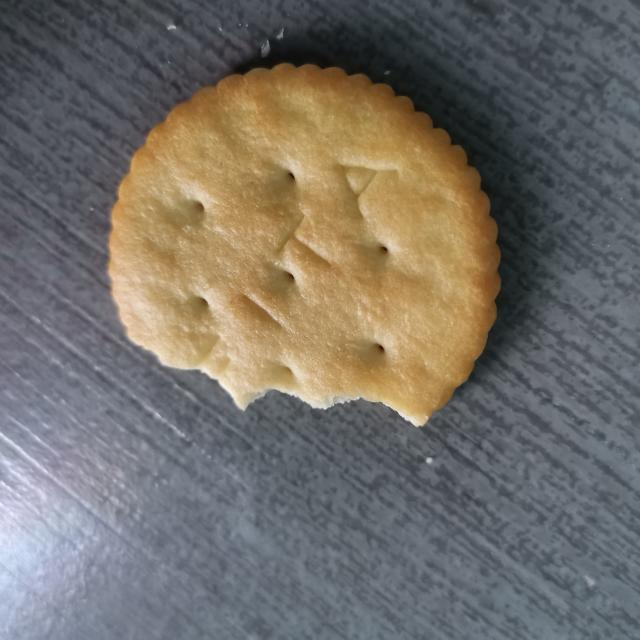Broken: (105, 60, 502, 428)
